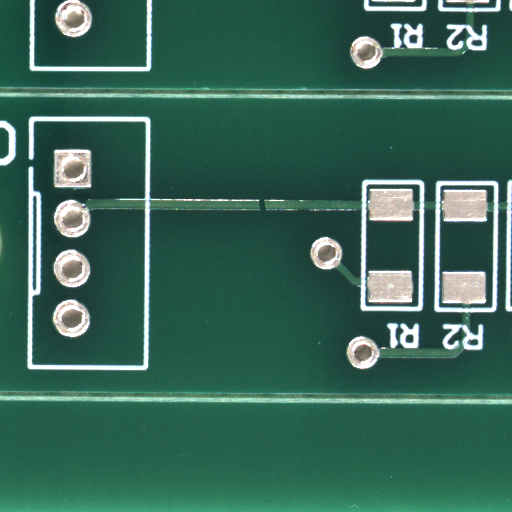Open_circuit: (262, 205, 272, 220)
